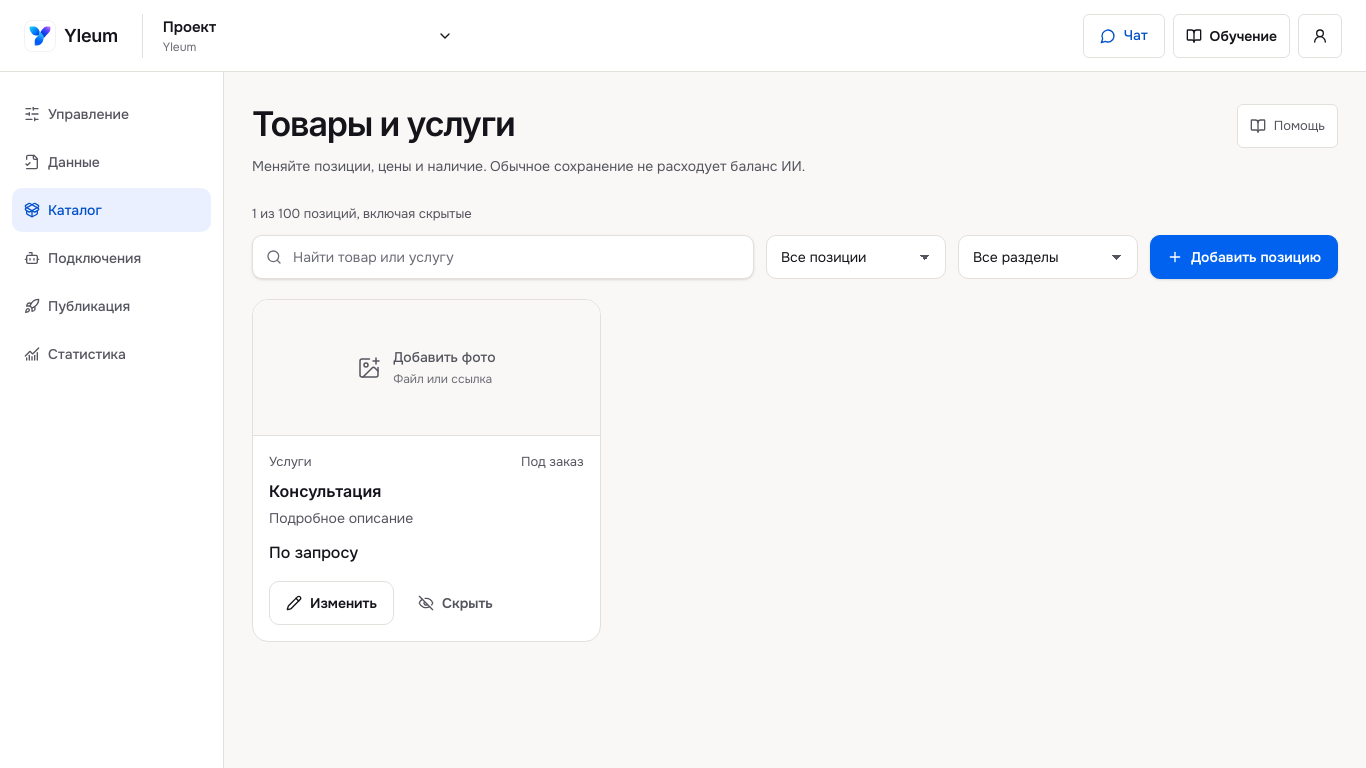
recovers a lost source PUT response without overwriting a newer profile or advancing its version
Step 1. Click the button "Изменить" → (331, 603), box [269,581,394,625]
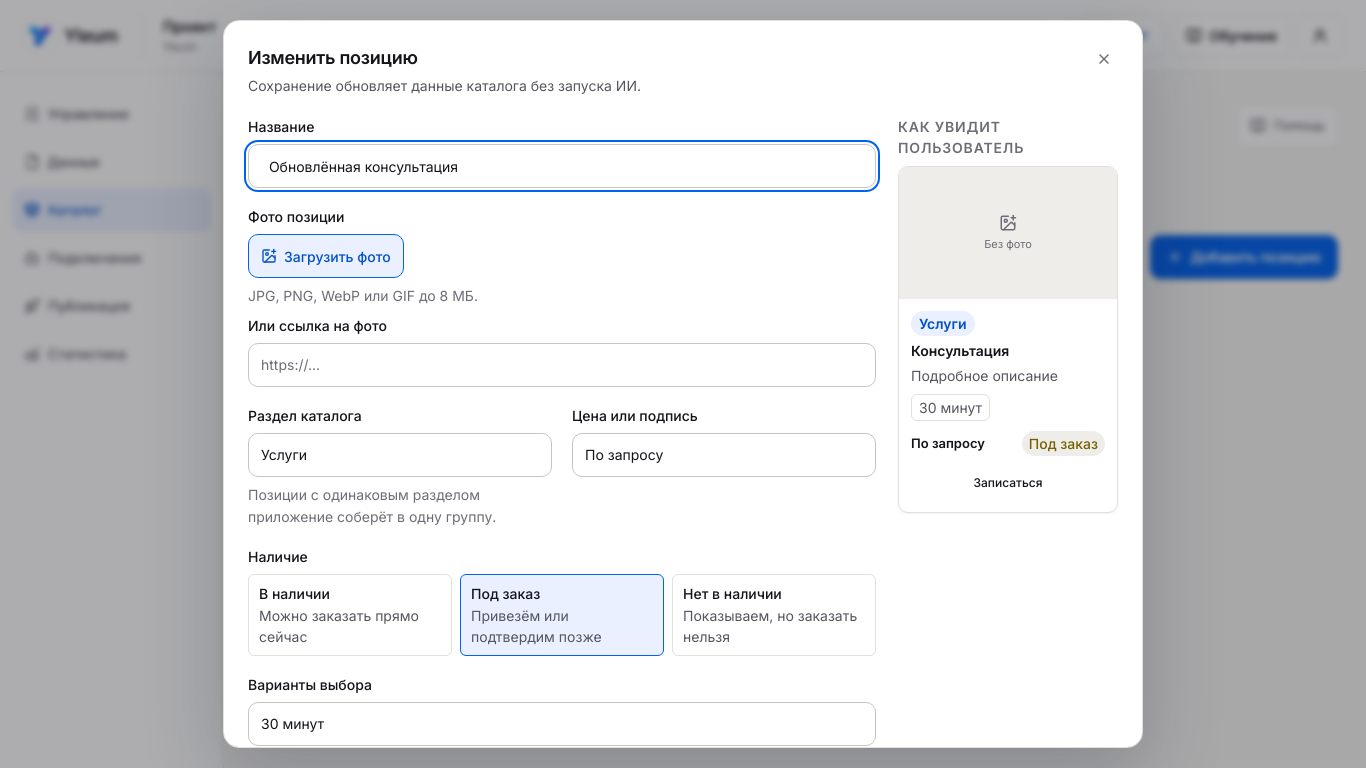
Step 2. Replace the text in the field named "Название элемента 1" with "  Обновлённая консультация  " → (562, 166), box [248,144,876,188]
(page scrolled)
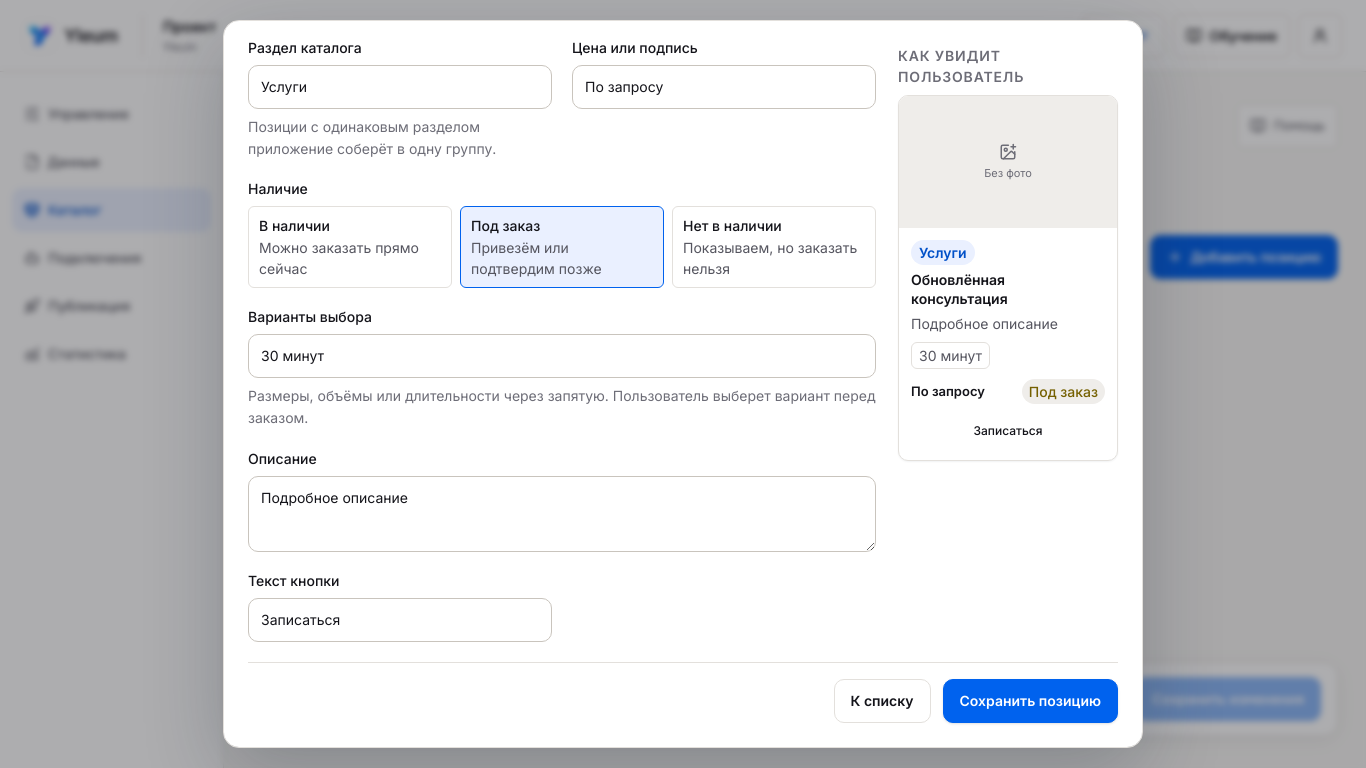
Step 3. Click the button "Сохранить позицию" → (1030, 701), box [942,679,1118,723]
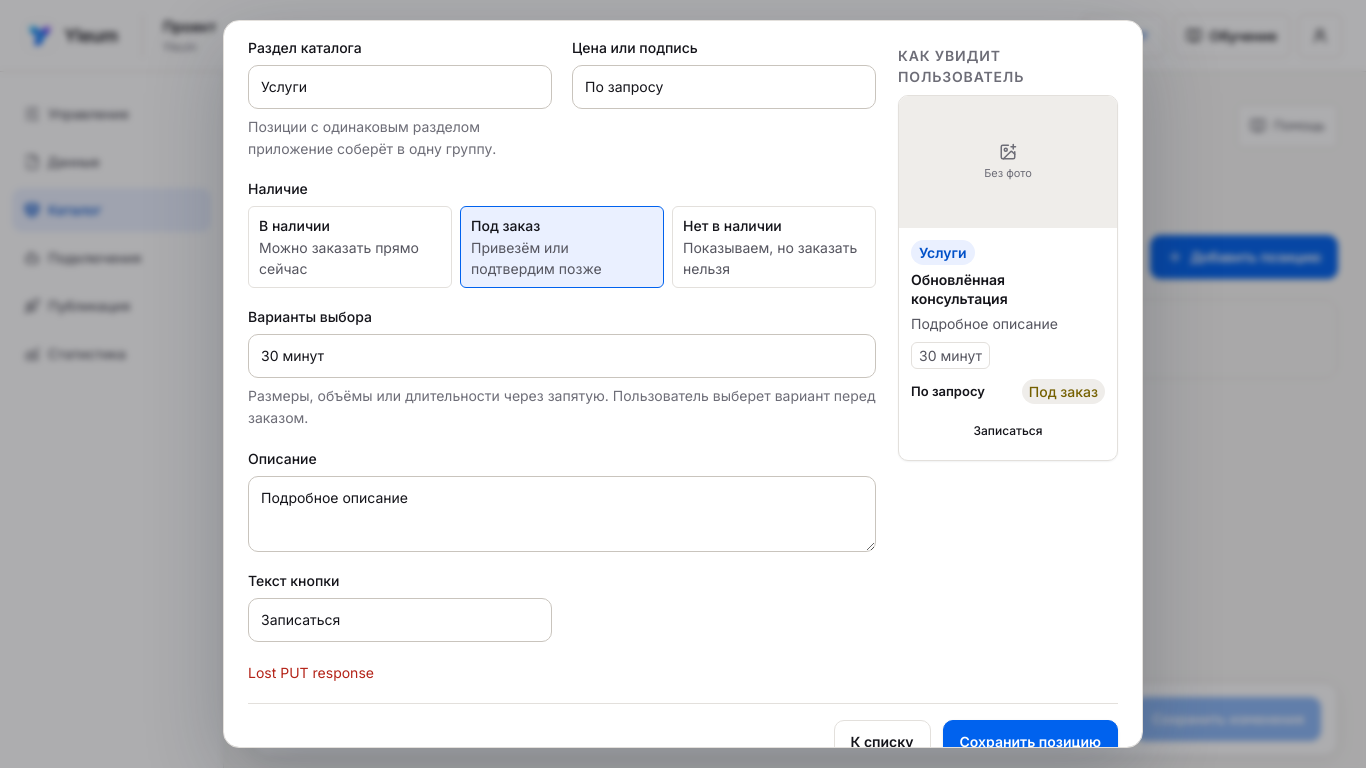
Expected: the dialog is shown
Step 4. Click the button "Сохранить позицию" → (1030, 742), box [942,720,1118,764]
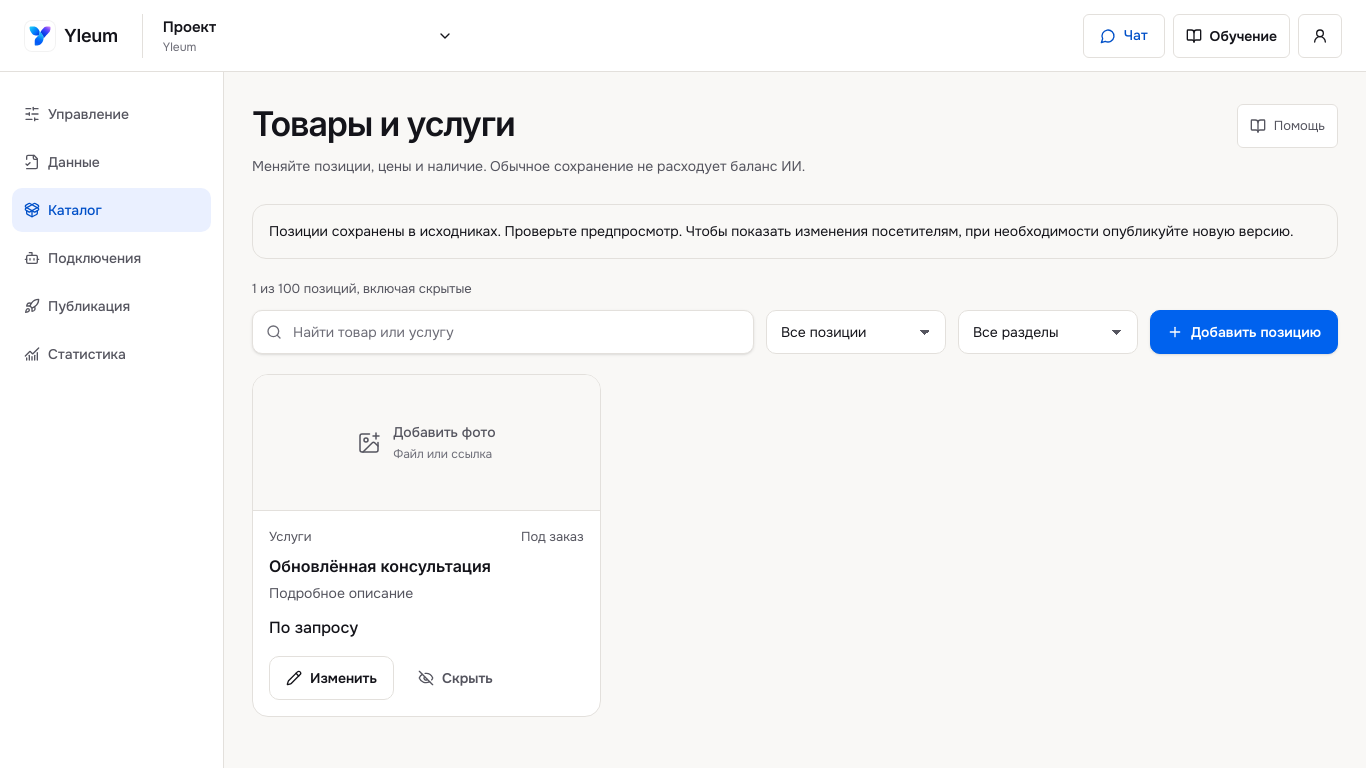
Expected: the heading "Обновлённая консультация" is shown, [269,556,491,576]
Expected: the dialog is gone
